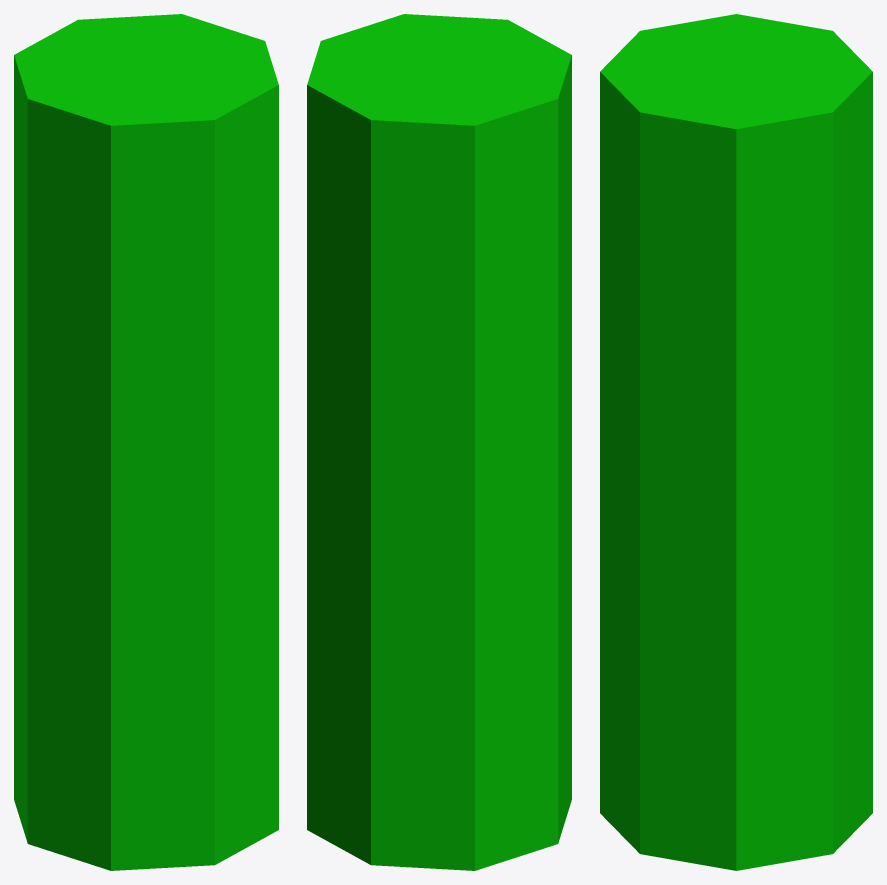
File: UCXCylinderL2_low.fbx
3 views of the same model, side by side, from view 1: azimuth 30°, elevation 25°; view 2: azimuth 150°, elevation 25°; view 3: azimuth 270°, elevation 25° (orthographic).
Parts seen in each view (by area): view 1: UCX_CylinderL2_low_00; view 2: UCX_CylinderL2_low_00; view 3: UCX_CylinderL2_low_00.
Boxes of the visible parts, x1,y1,x2,y2 form: UCX_CylinderL2_low_00: [14, 14, 278, 870]; UCX_CylinderL2_low_00: [307, 14, 571, 870]; UCX_CylinderL2_low_00: [600, 14, 872, 870].
Size of the model in its own units: 0.045 by 0.135 by 0.045.
